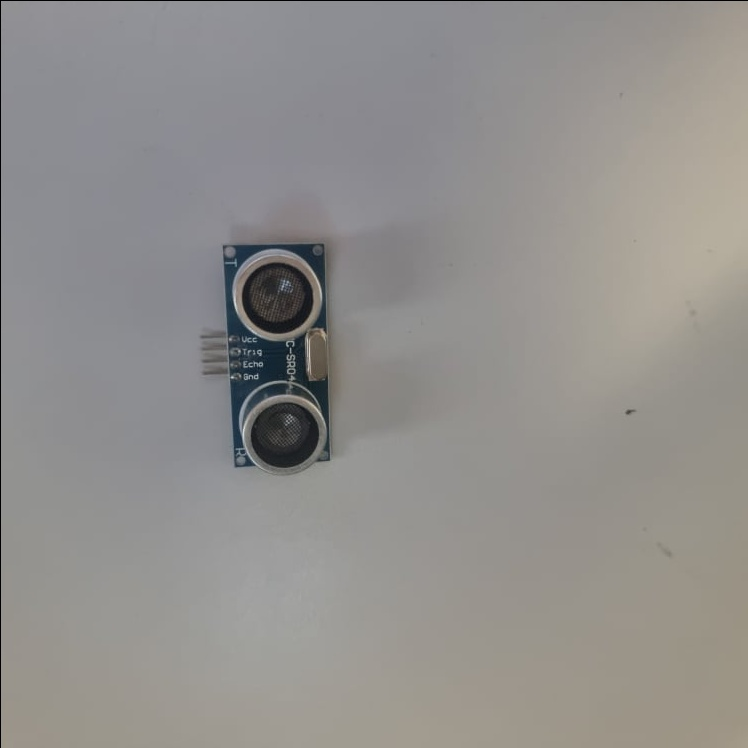SENSOR: (217, 243, 330, 472)
